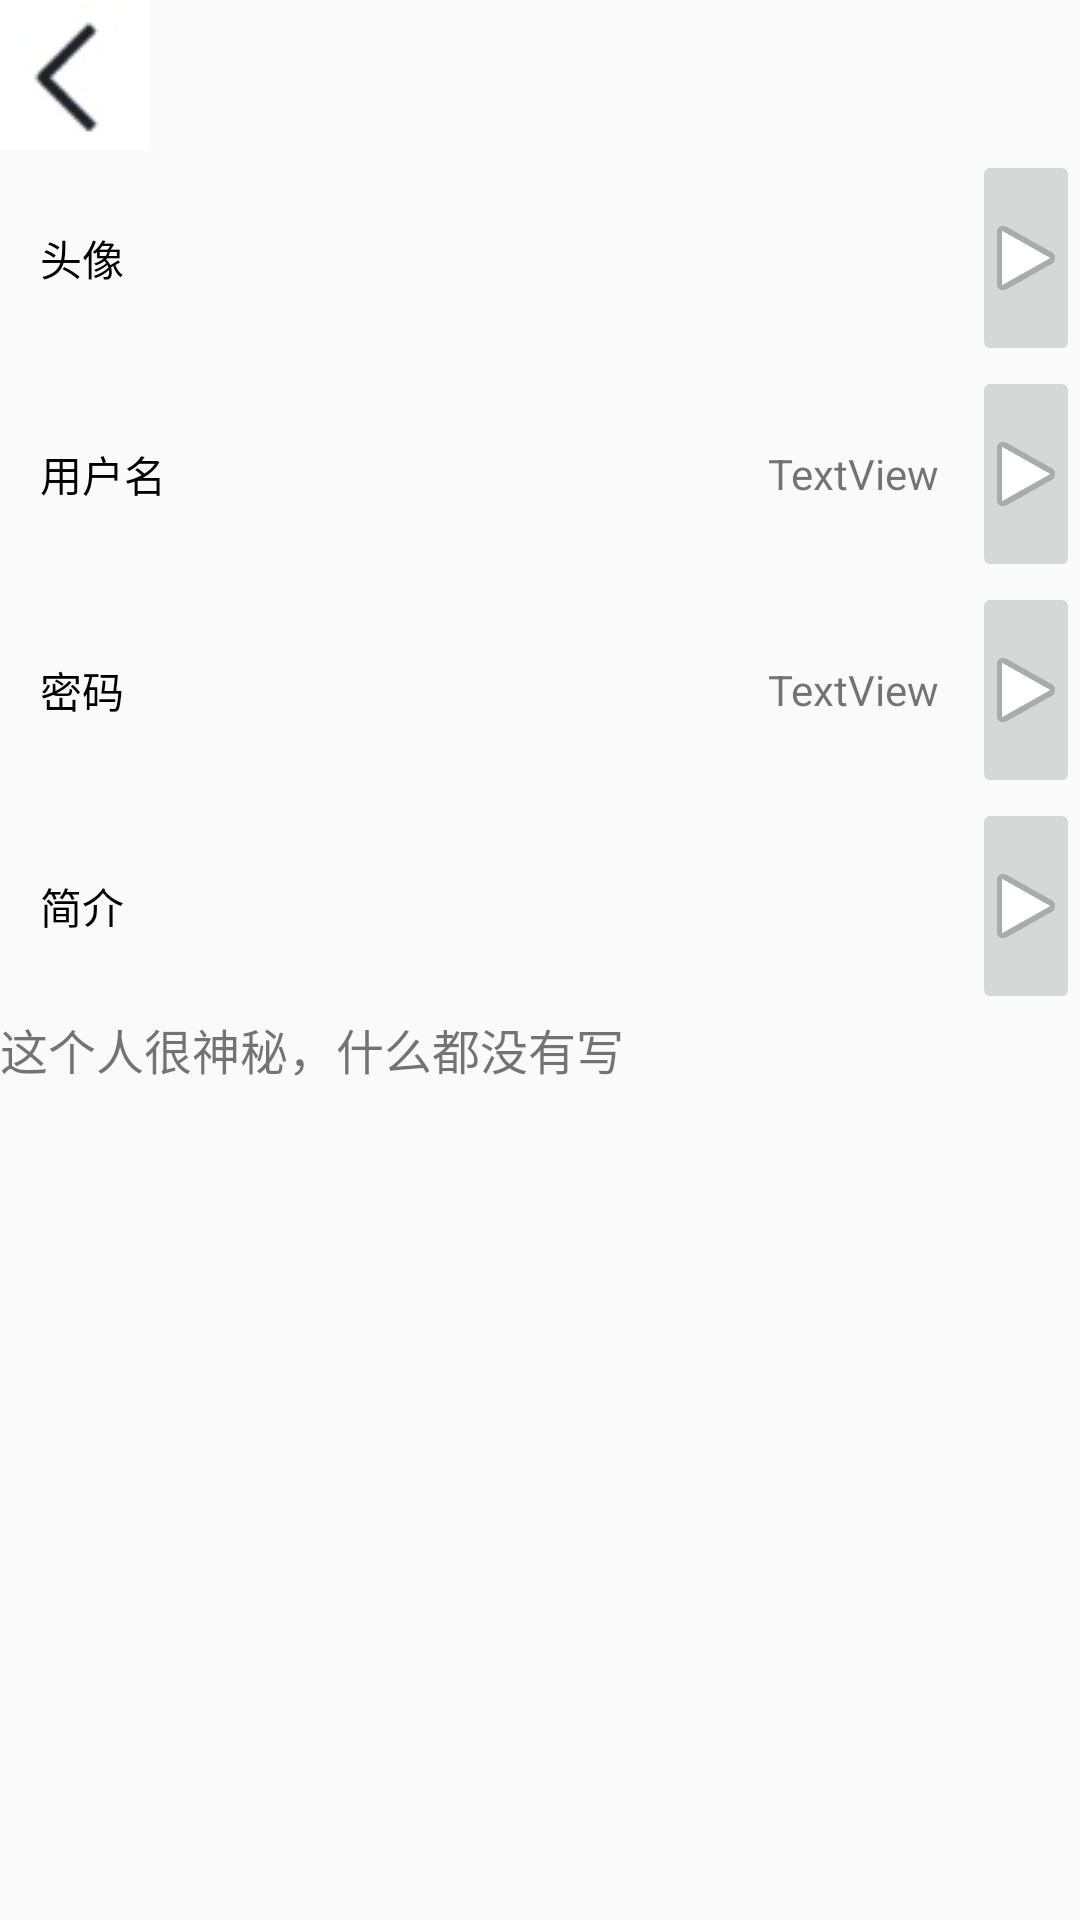

Screen size 1080x1920. Icon name, then its center in pixels as (x,y):
play: (1026,258), (1026,474), (1026,690), (1026,906)
